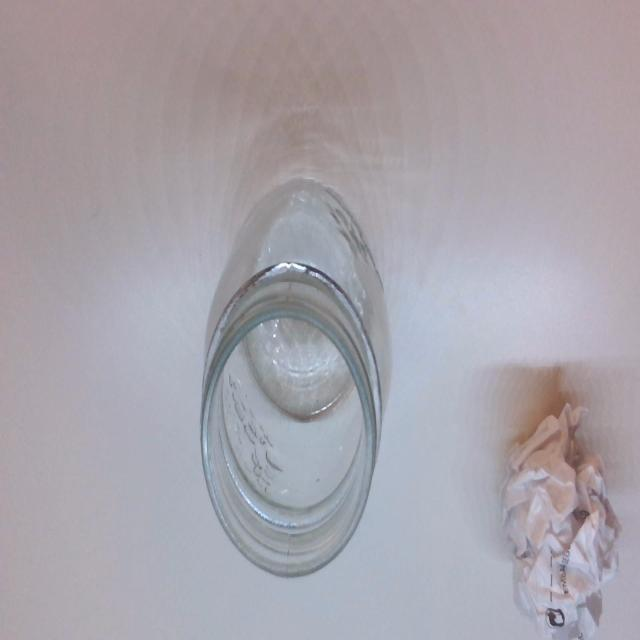Glass: (202, 178, 394, 579)
Paper: (502, 417, 629, 640)
